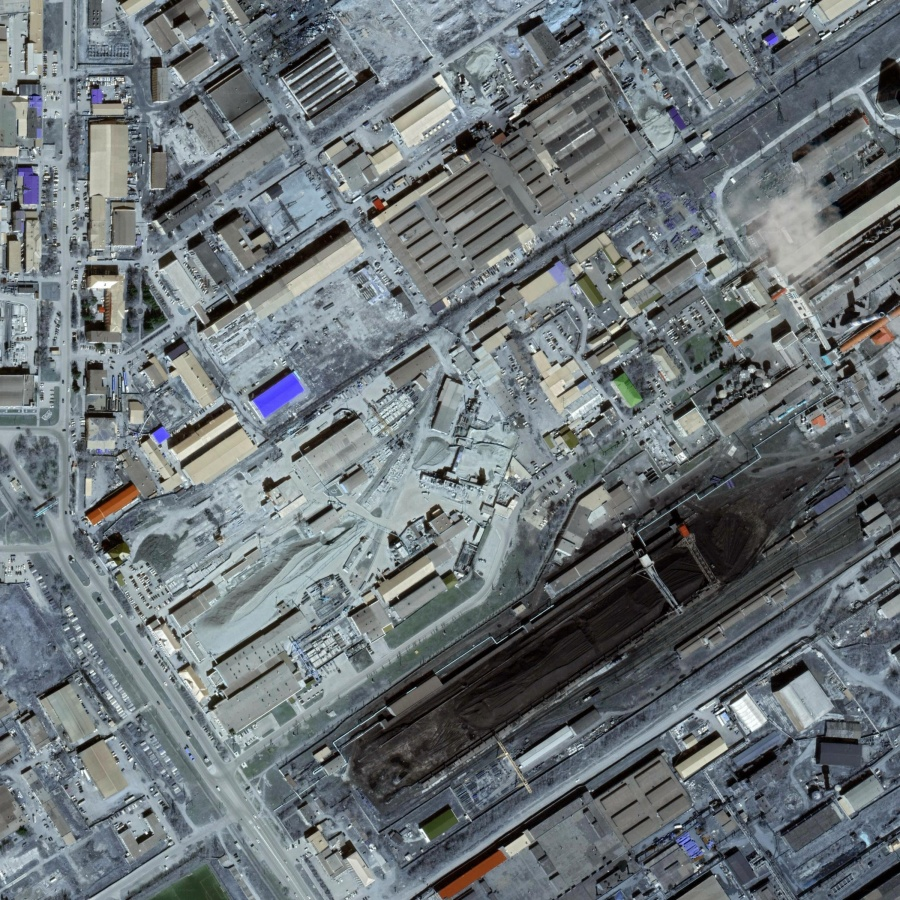PowerPlant: (326, 448, 798, 818)
